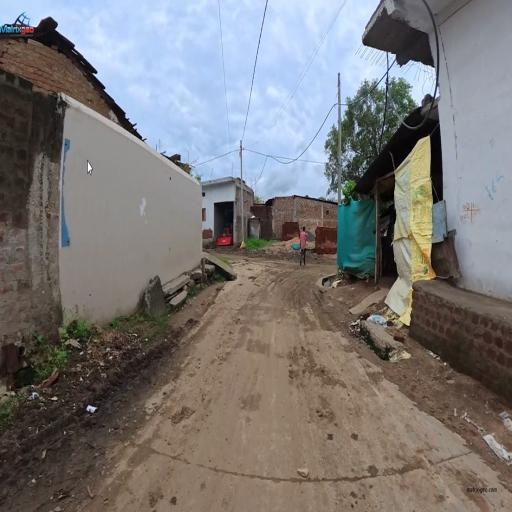longitudinal_crack: (145, 428, 429, 493)
